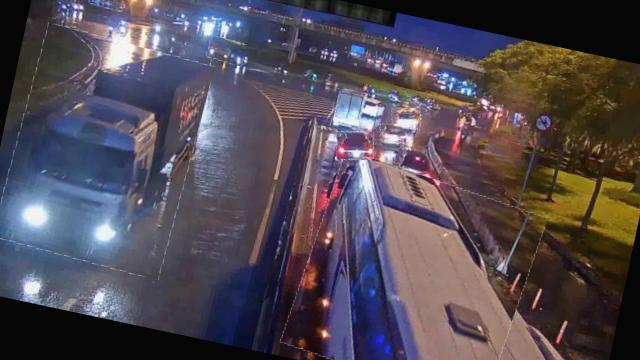Bus: (282, 151, 545, 360)
Car: (332, 127, 378, 164), (376, 118, 416, 152), (389, 103, 424, 134), (371, 136, 406, 167)
Truck: (0, 23, 213, 280), (330, 87, 367, 132), (206, 35, 248, 65)
